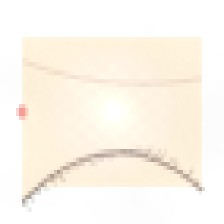hemorrhage_spot: (66, 69, 138, 126)
